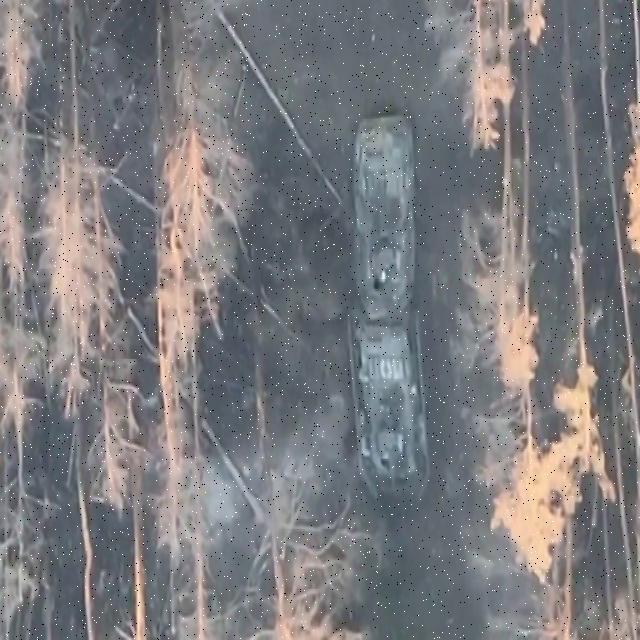APC-IFV: (343, 316, 448, 522), (348, 113, 432, 320)
